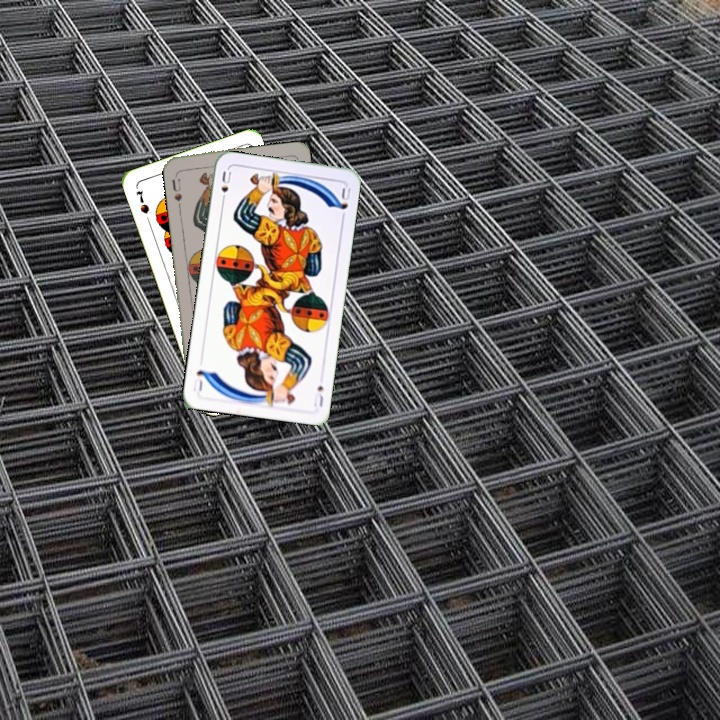S7: (132, 186, 152, 216)
SU: (217, 167, 234, 206), (168, 169, 184, 204), (310, 381, 326, 410)
